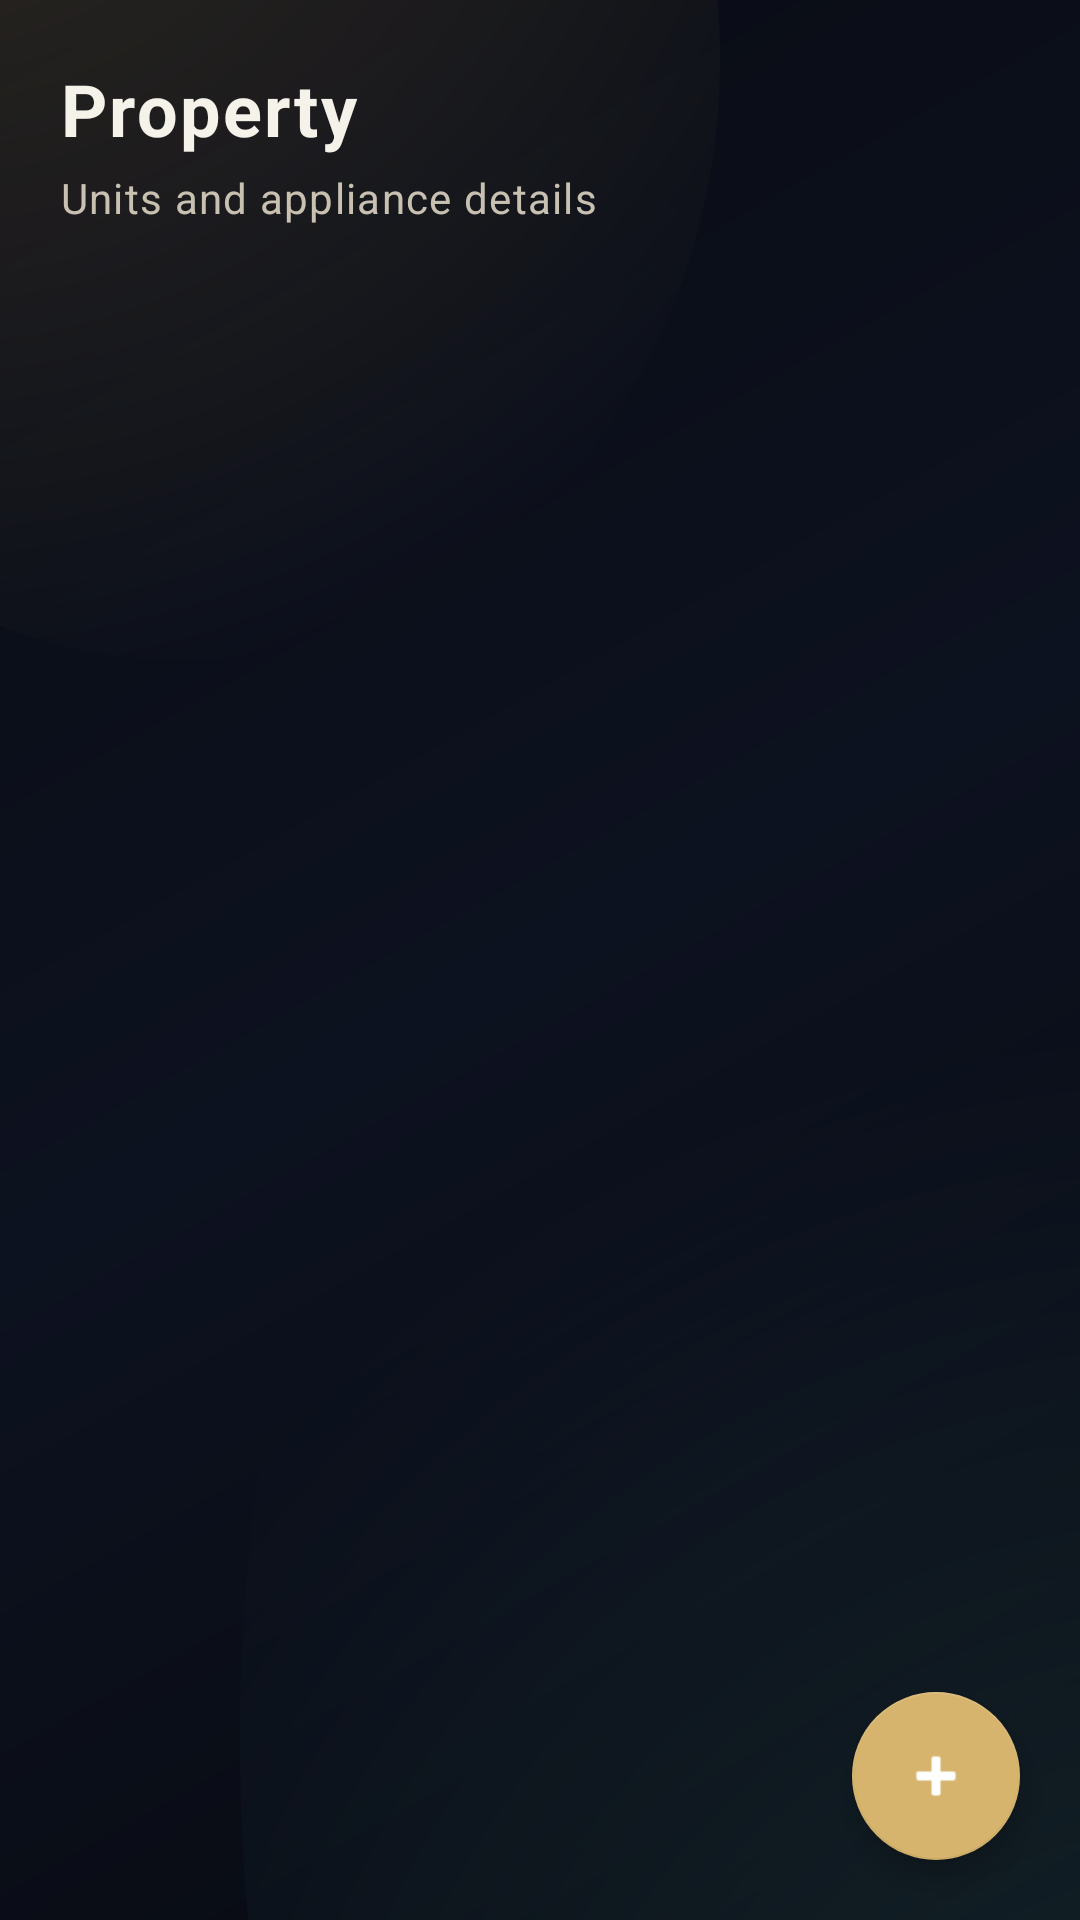

Icon bounding boxes for this 1080 × 1920 phone screenshot, format {"x1": x1, "y1": y1, "x2": x2, "y2": y2}:
Add unit: {"x1": 852, "y1": 1692, "x2": 1020, "y2": 1860}
